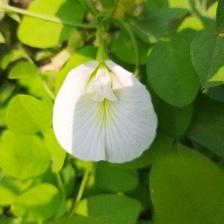shankupushpam: (52, 58, 160, 167)
